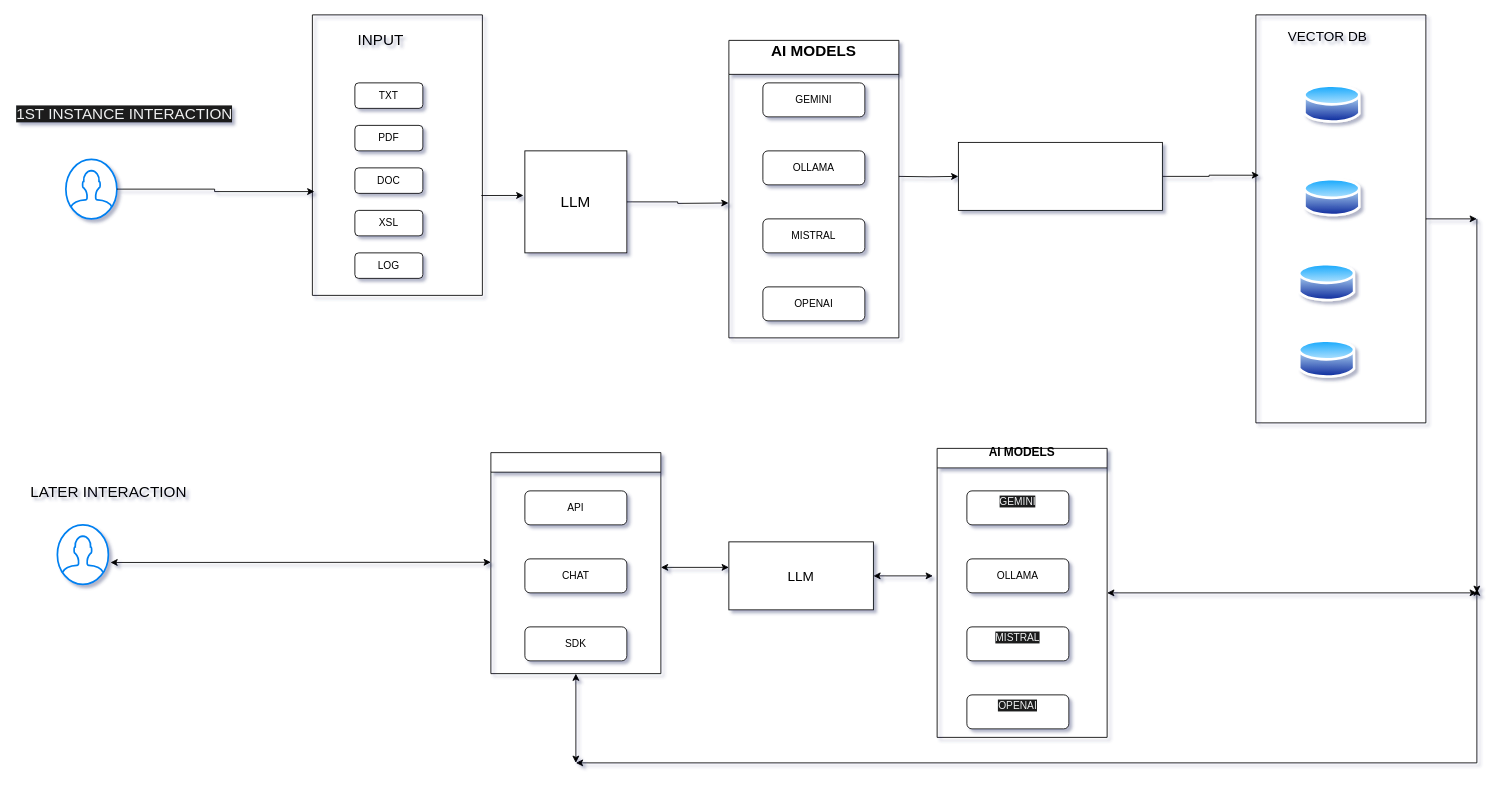
Image size: 1505x791. Some labels were removed from this diagram. Here are the shapes that lost their labels. From the top down, the centre of each, then its label:
(1060,176): VECTOR EMBEDDINGS
(575,563): INPUT/OUTPUT
